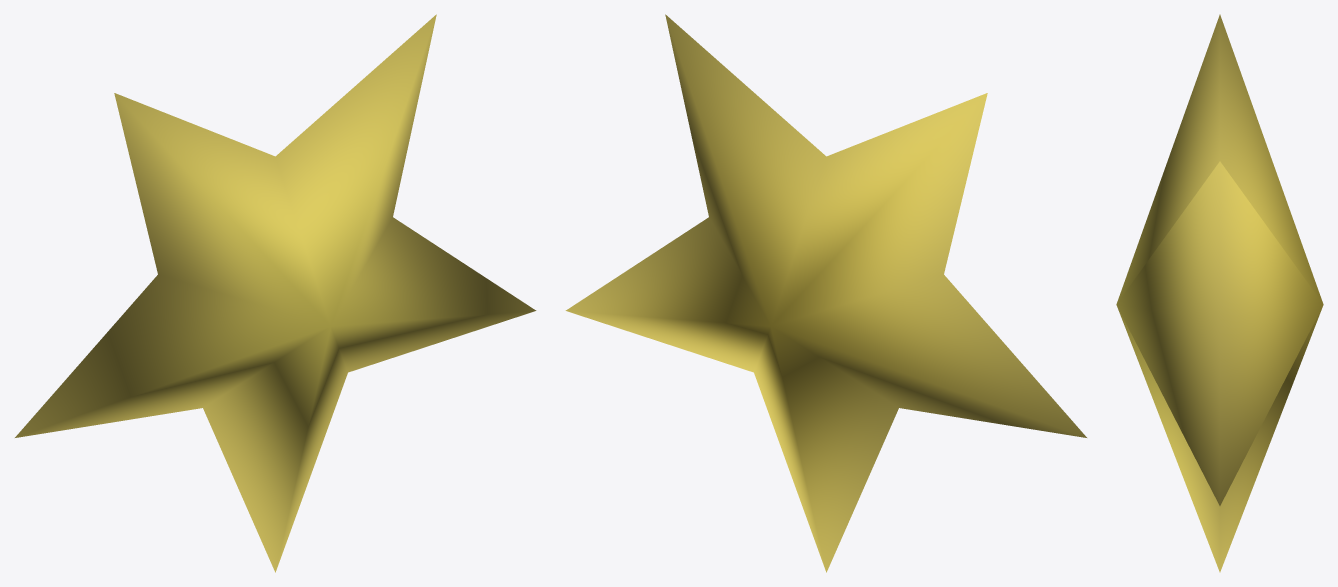
The model's file is star.glb.
3 views of the same model, side by side, from view 1: azimuth 30°, elevation 25°; view 2: azimuth 150°, elevation 25°; view 3: azimuth 270°, elevation 25° (orthographic). The views are drawn at different scales.
Bounding box in the file's own units: 1.9 × 1.81 × 0.7.
